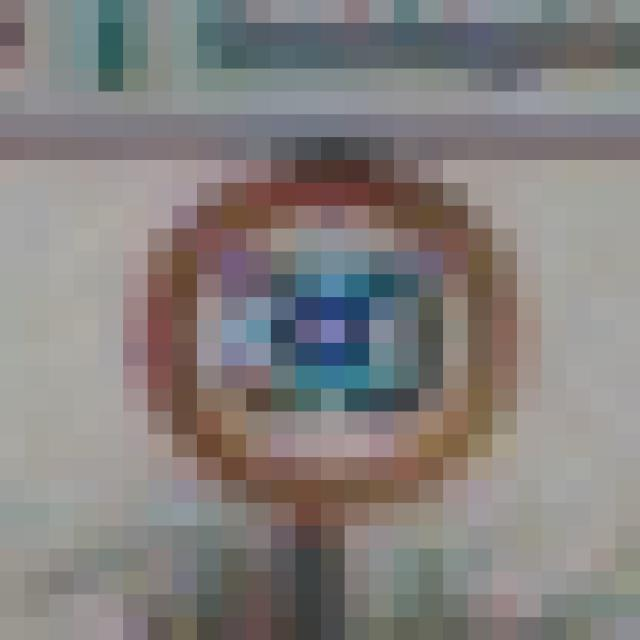Speed Limit -30-: (110, 103, 504, 514)
